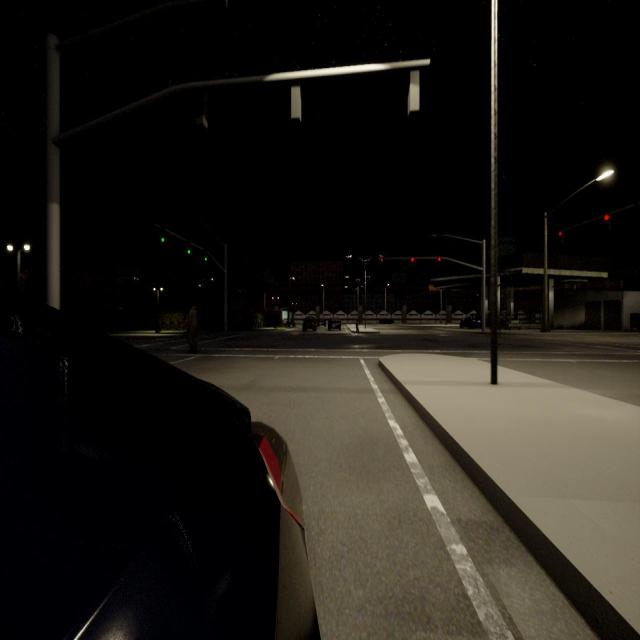Pedestrian: (186, 305, 198, 353), (355, 320, 359, 336)
Vehicle: (0, 314, 313, 638), (460, 316, 480, 329), (302, 318, 316, 332), (328, 317, 341, 331), (509, 320, 521, 329), (379, 319, 393, 324), (286, 319, 294, 327)
traffic_light: (195, 87, 208, 128), (408, 68, 419, 112), (290, 80, 301, 120), (161, 228, 165, 242), (604, 214, 609, 221), (188, 242, 190, 254), (205, 252, 207, 261), (437, 257, 441, 261), (559, 231, 562, 236), (411, 258, 414, 262), (381, 258, 384, 262)
